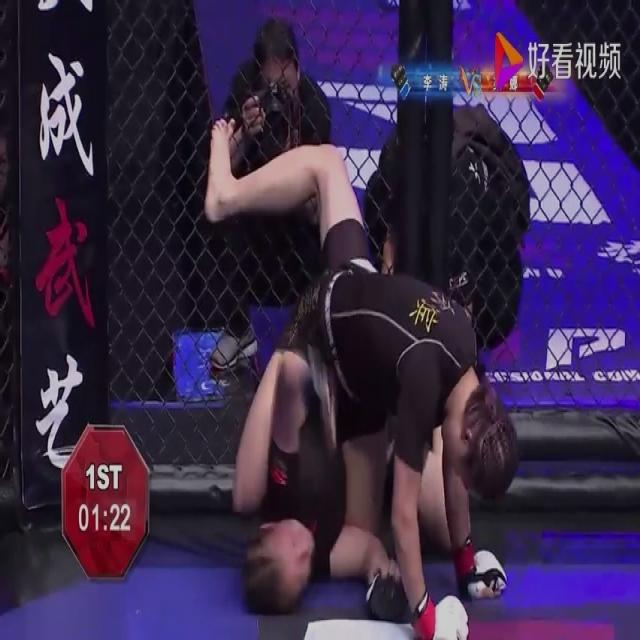fight: (203, 109, 522, 640)
